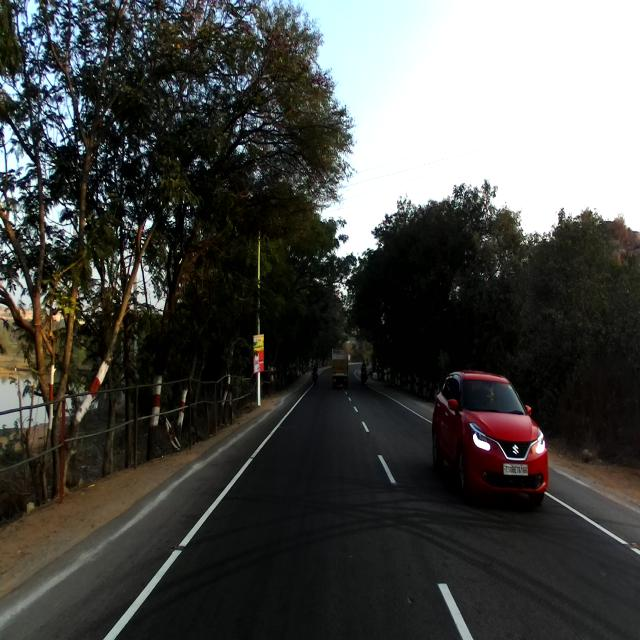car ahead at: (435, 366, 550, 505)
tree ahead at: (23, 281, 118, 509)
